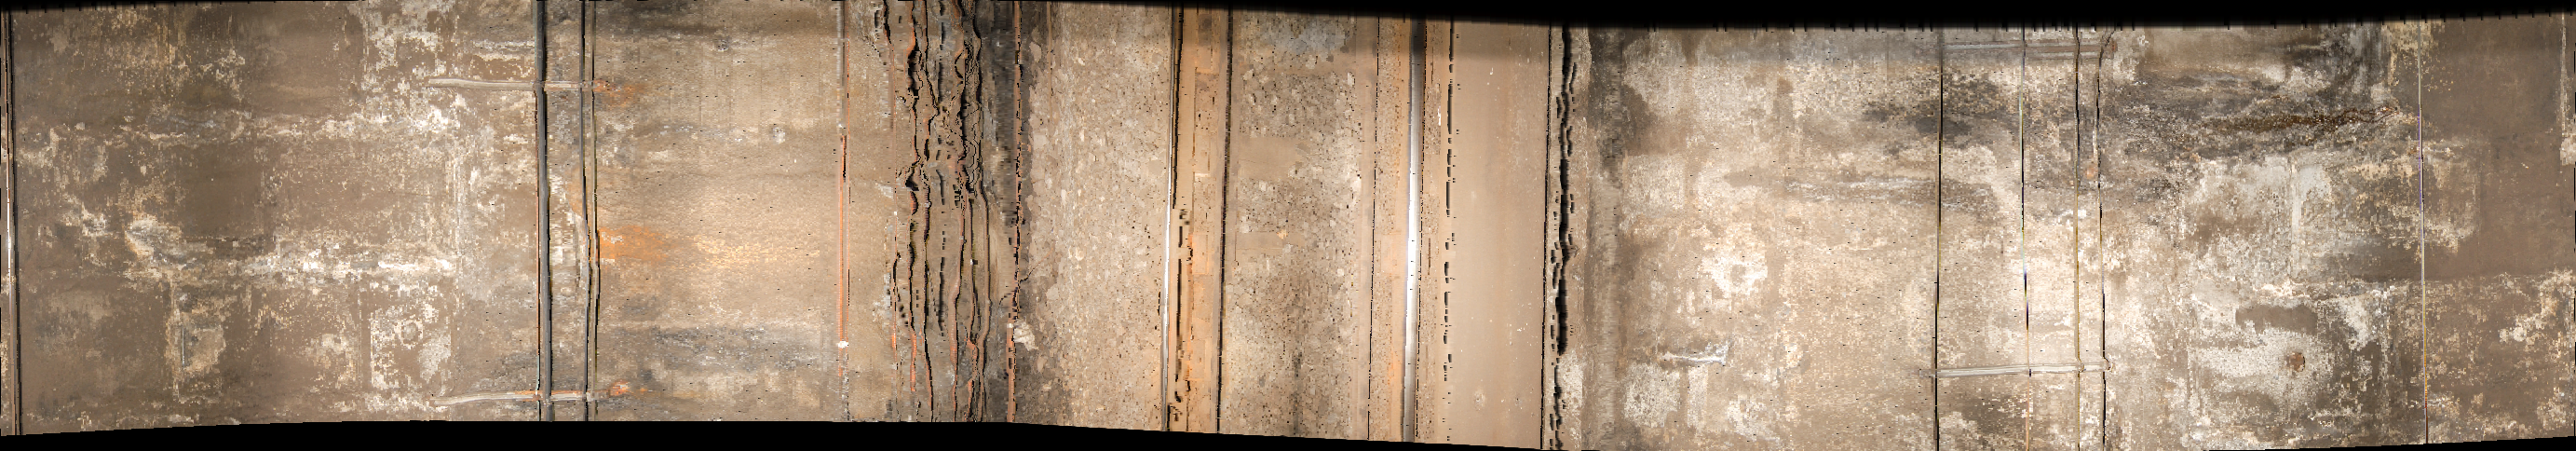pipes: (907, 2, 1028, 451), (2011, 10, 2113, 451), (529, 2, 611, 448), (2407, 25, 2431, 451), (1930, 18, 1952, 451), (1929, 362, 2114, 380)
tracks: (1171, 8, 1454, 451)
